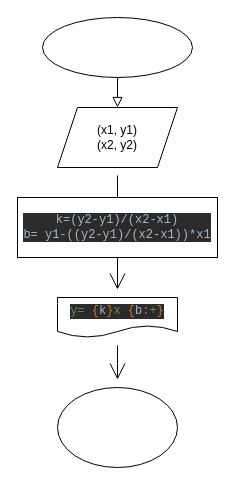
Image size: 235x485. Some labels were removed from this diagram. Here are the shapes that lost their labels. From the top down, the centre of each, then its label:
At (117,47): "начало".
At (117,427): "конец".
